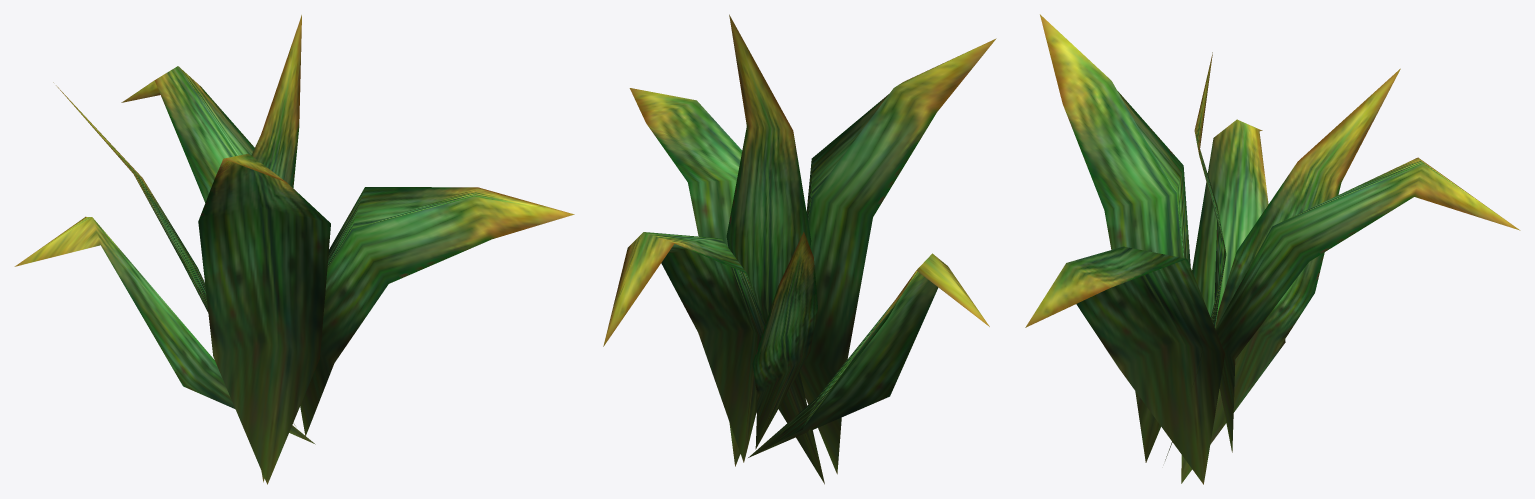
Rendered from n_SWGplant03.glb.
3 renders of one model, left to right at view 1: azimuth 30°, elevation 25°; view 2: azimuth 150°, elevation 25°; view 3: azimuth 270°, elevation 25°, orthographic. The views are drawn at different scales.
Visible parts, largest first — view 1: n_SWGplant03; view 2: n_SWGplant03; view 3: n_SWGplant03.
Boxes of the visible parts, x1,y1,x2,y2 form: n_SWGplant03: (14,15,574,484); n_SWGplant03: (603,14,996,484); n_SWGplant03: (1025,14,1520,484).
Bounding box in the file's own units: 1.48 × 1.38 × 1.37.
1 material, 1 textured.
